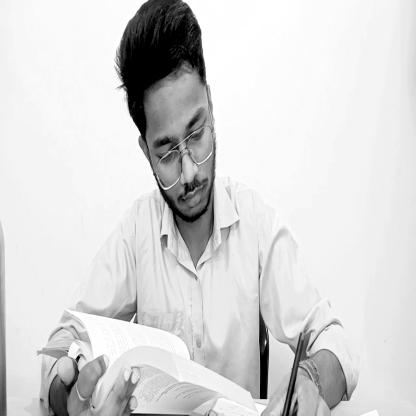Distracted: (119, 0, 222, 232)
